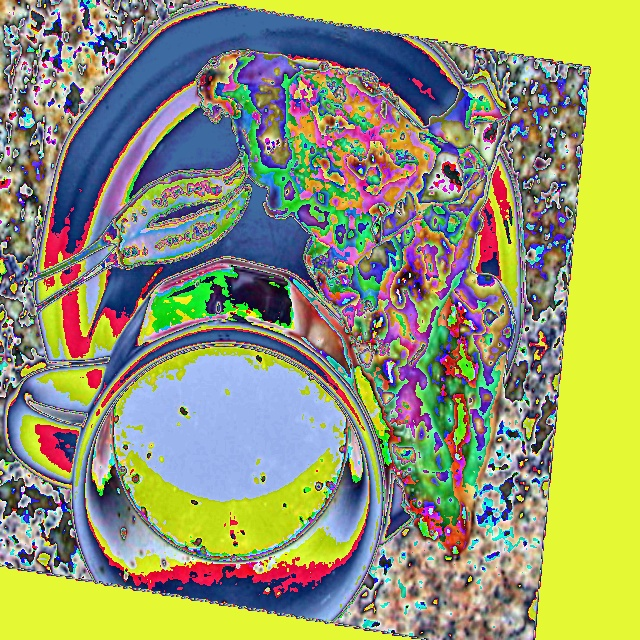background: (25, 52, 516, 559), (110, 219, 348, 563)
